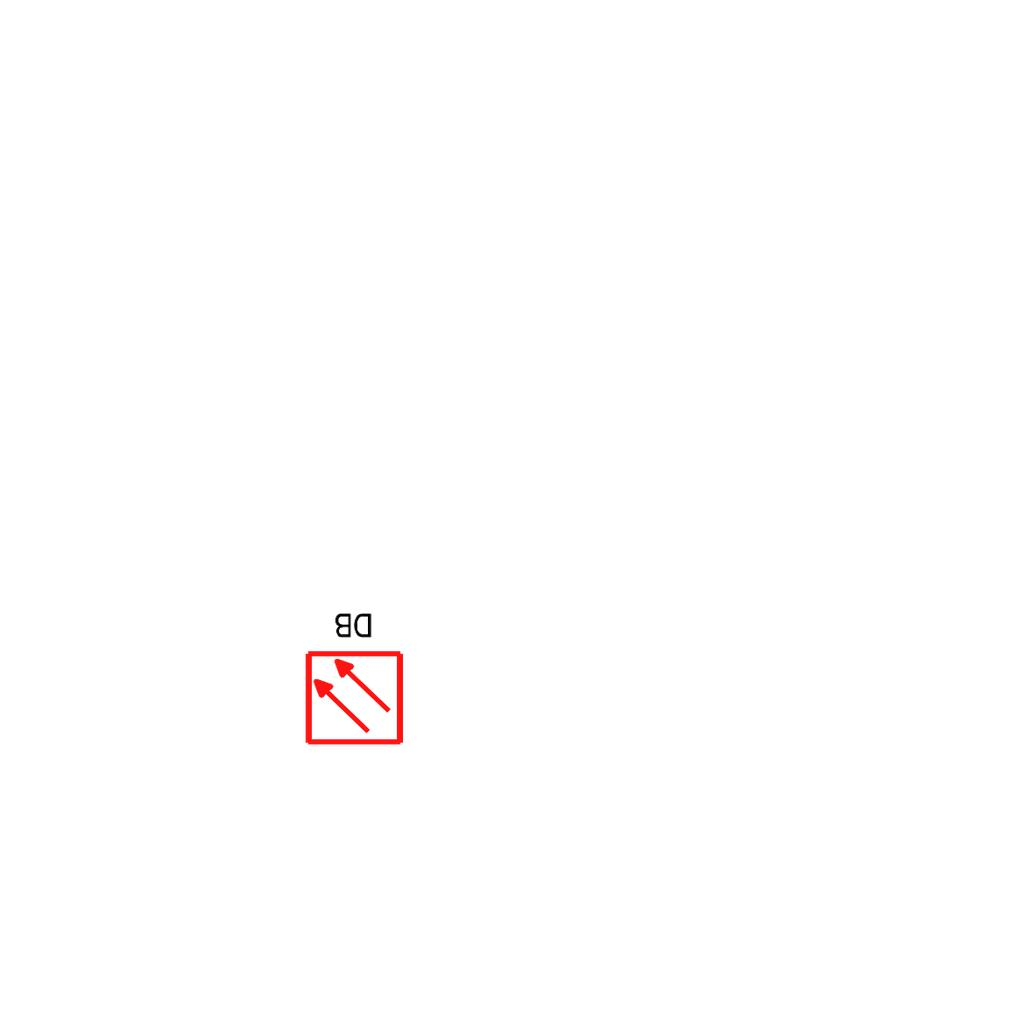DB_Melder_in_Doppelboden_mit_Revisionsoeffnung_mind_40_x_40_cm: (296, 603, 410, 752)
